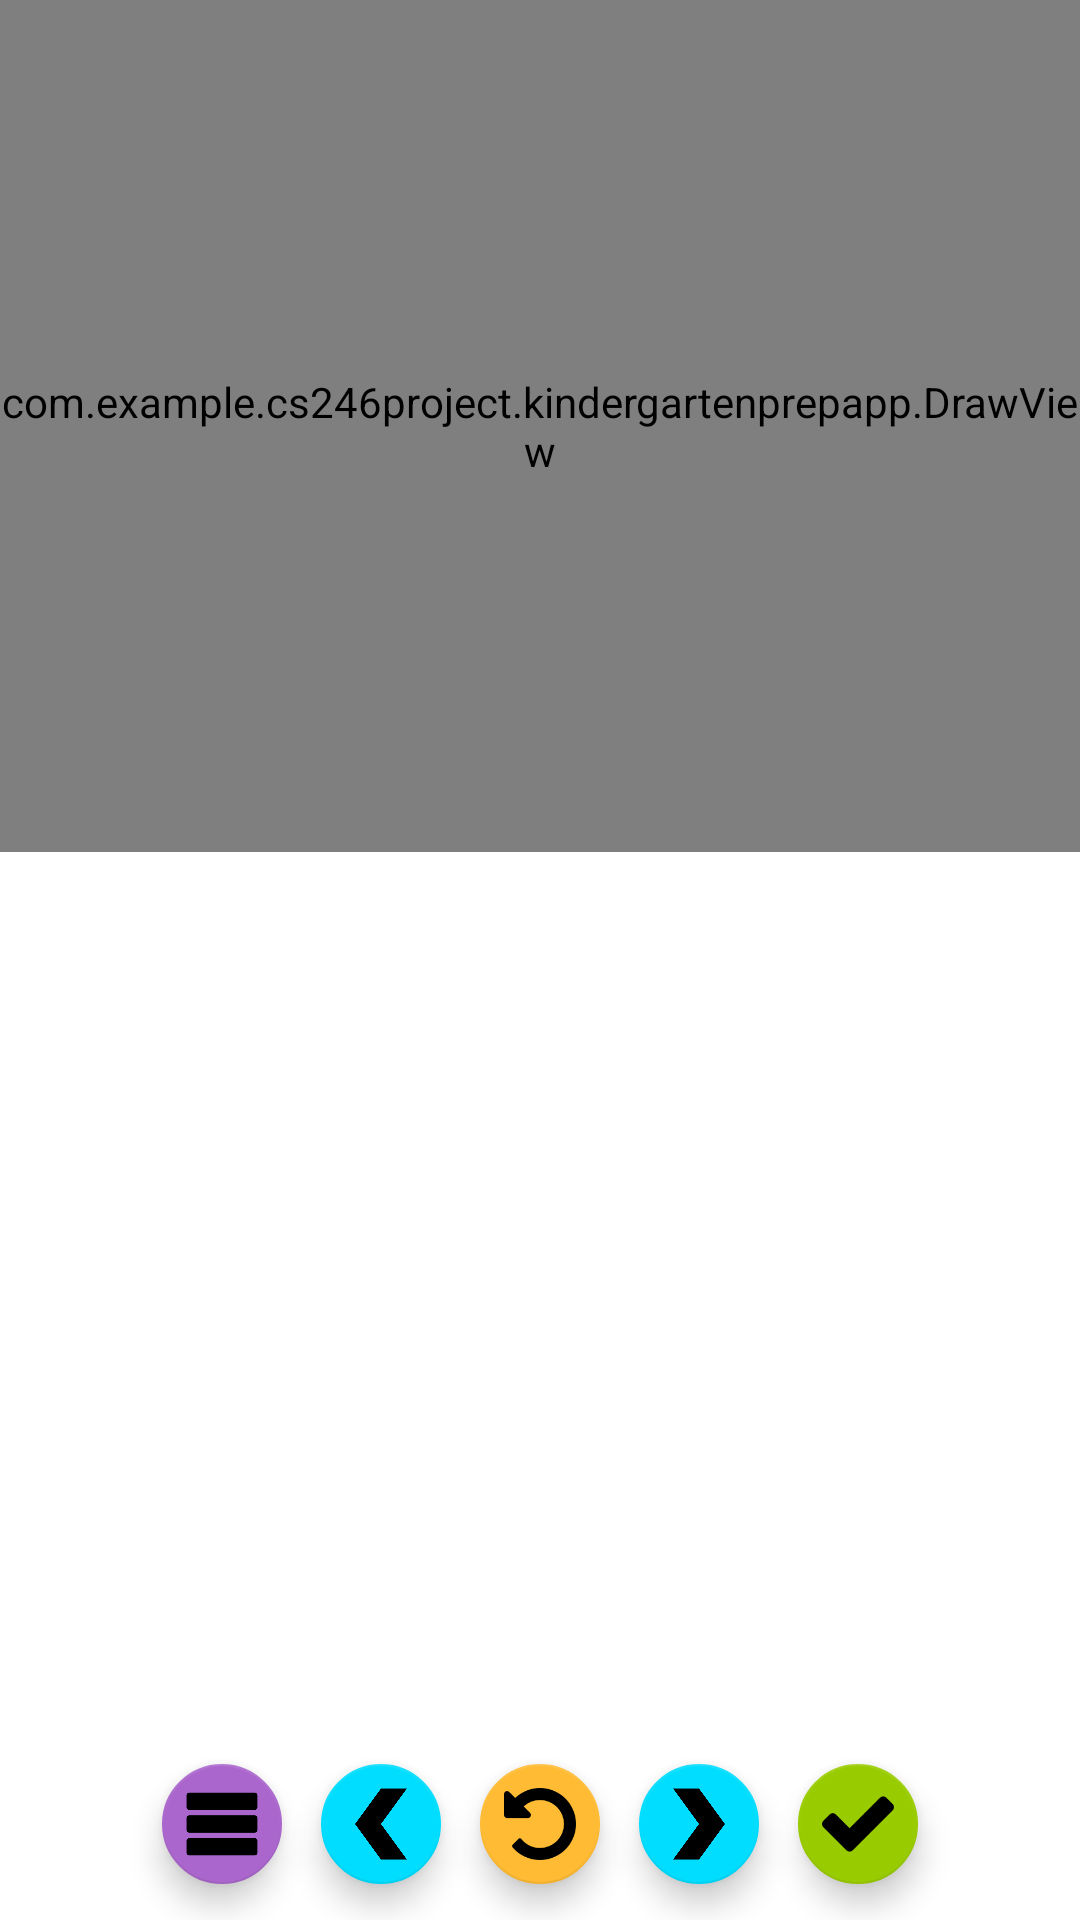

Named icons in this screenshot (1080 x 1920) and their bounding boxes, bbox=(x1, y1, x2, y2):
arrow left: bbox=(321, 1764, 441, 1896)
arrow right: bbox=(639, 1764, 760, 1896)
check: bbox=(798, 1764, 920, 1896)
clear: bbox=(480, 1764, 600, 1896)
menu: bbox=(161, 1764, 282, 1896)
